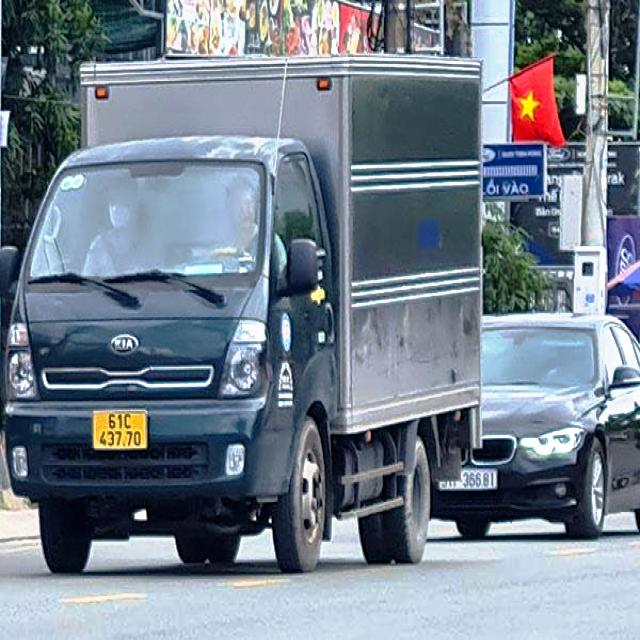license_plate: (92, 409, 149, 451)
